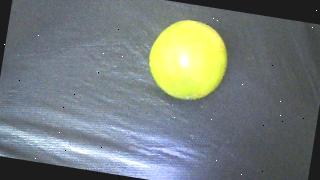LOCAL: (144, 14, 233, 105)
